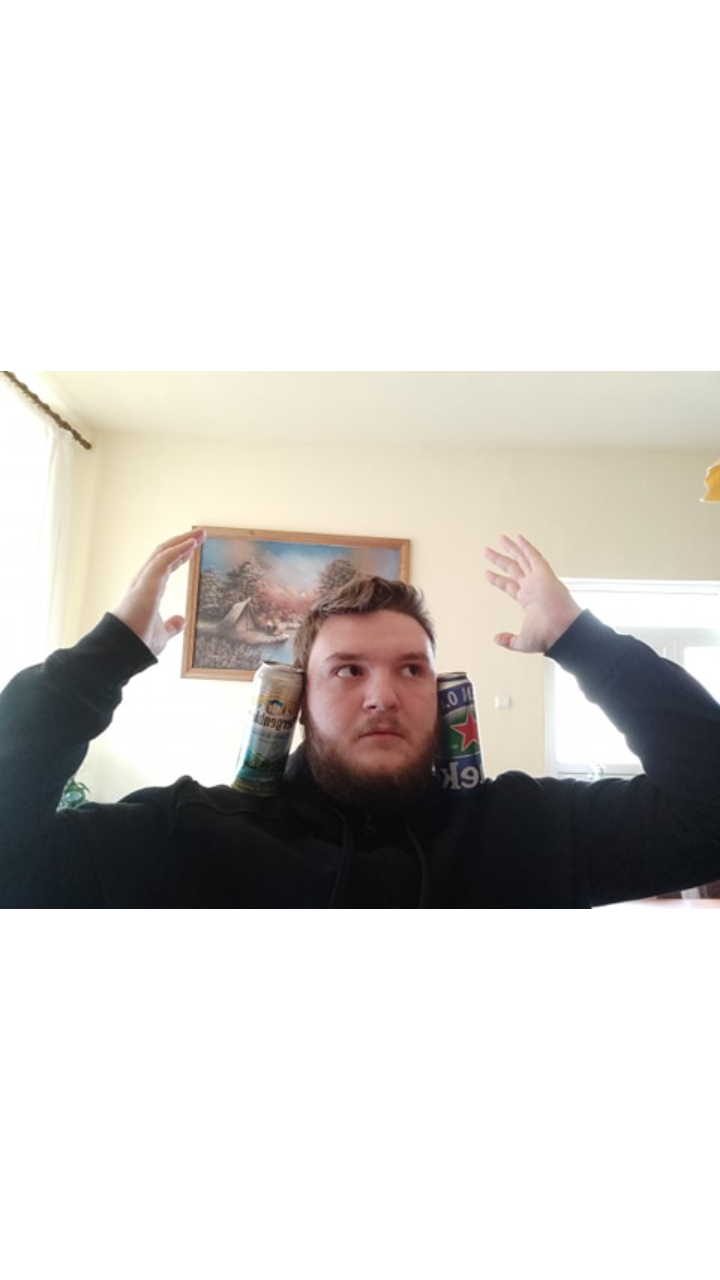Can: (236, 663, 300, 784), (427, 664, 485, 787)
